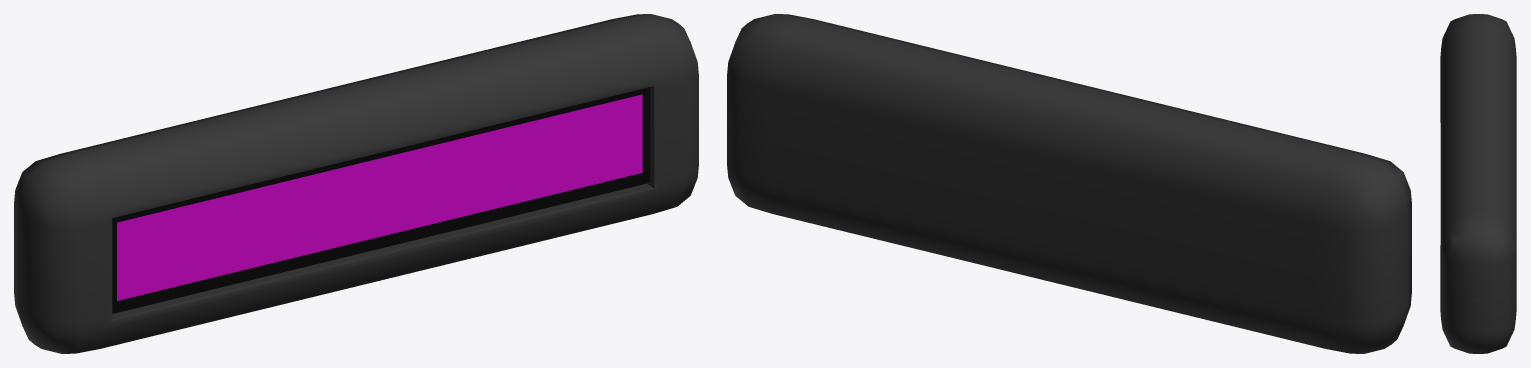
File: ticker_pager.gltf
3 renders of one model, left to right at view 1: azimuth 30°, elevation 25°; view 2: azimuth 150°, elevation 25°; view 3: azimuth 270°, elevation 25°, orthographic. The views are drawn at different scales.
Visible parts, largest first — view 1: Pager, Glass, Ticker, TickerBG; view 2: Pager; view 3: Pager.
Part boxes in pixels (x1=…): Pager: x1=14, y1=14, x2=698, y2=353; Glass: x1=113, y1=87, x2=653, y2=317; Ticker: x1=117, y1=94, x2=642, y2=300; TickerBG: x1=112, y1=87, x2=649, y2=313; Pager: x1=727, y1=14, x2=1411, y2=353; Pager: x1=1440, y1=14, x2=1516, y2=353.
Size of the model in its own units: 4.87 by 1.31 by 0.6797.
